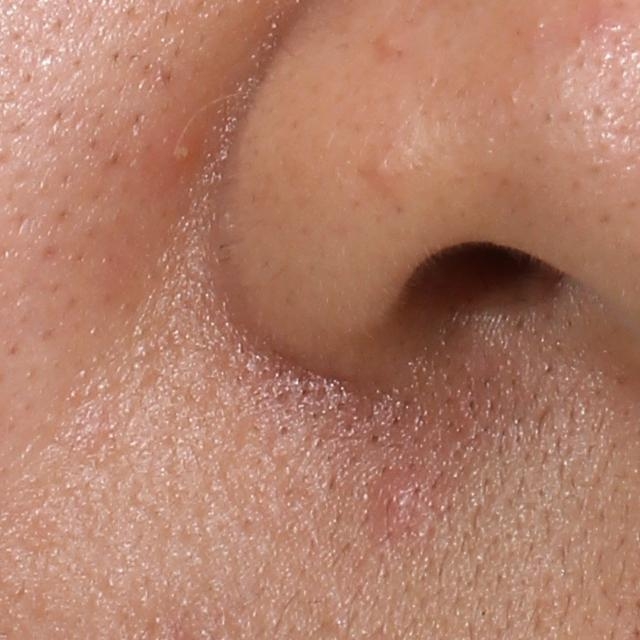comedo: (366, 153, 396, 180)
papule: (364, 470, 427, 540)
